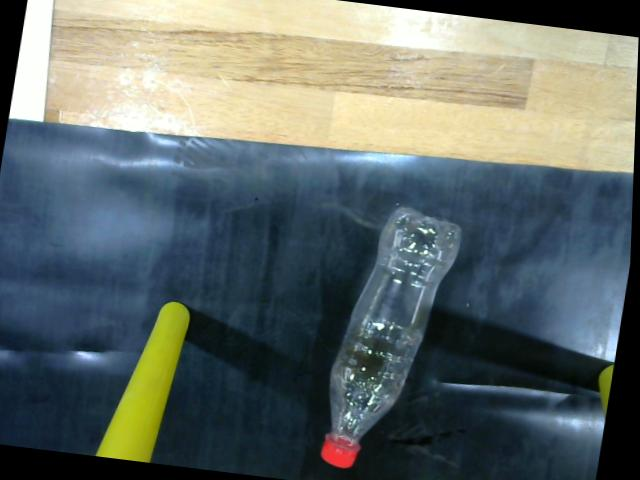bottle: (316, 201, 472, 471)
